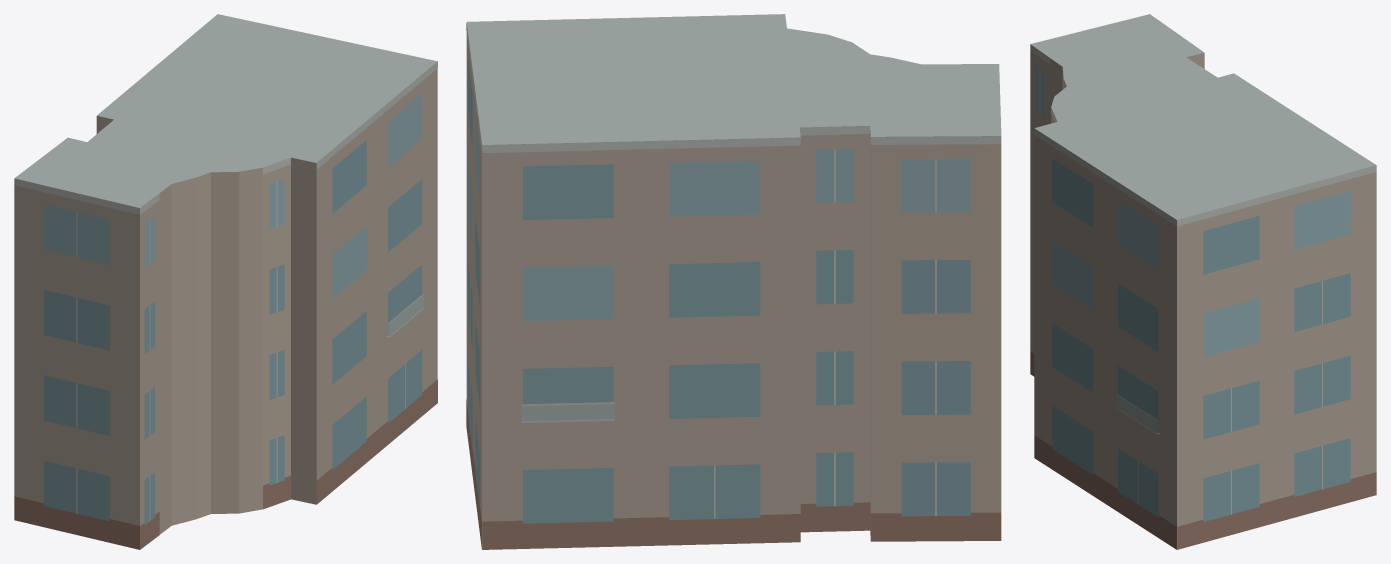
The model's file is survey-upis-32663131.glb.
3 views of the same model, side by side, from view 1: azimuth 30°, elevation 25°; view 2: azimuth 150°, elevation 25°; view 3: azimuth 270°, elevation 25° (orthographic). The views are drawn at different scales.
Parts seen in each view (by area): view 1: survey-upis-32663131.tmp; view 2: survey-upis-32663131.tmp; view 3: survey-upis-32663131.tmp.
Part boxes in pixels (x1,y1,x2,y2): survey-upis-32663131.tmp: [14, 14, 437, 549]; survey-upis-32663131.tmp: [466, 14, 1001, 549]; survey-upis-32663131.tmp: [1030, 14, 1376, 549].
Bounding box in the file's own units: 16.35 × 12.2 × 11.62.
